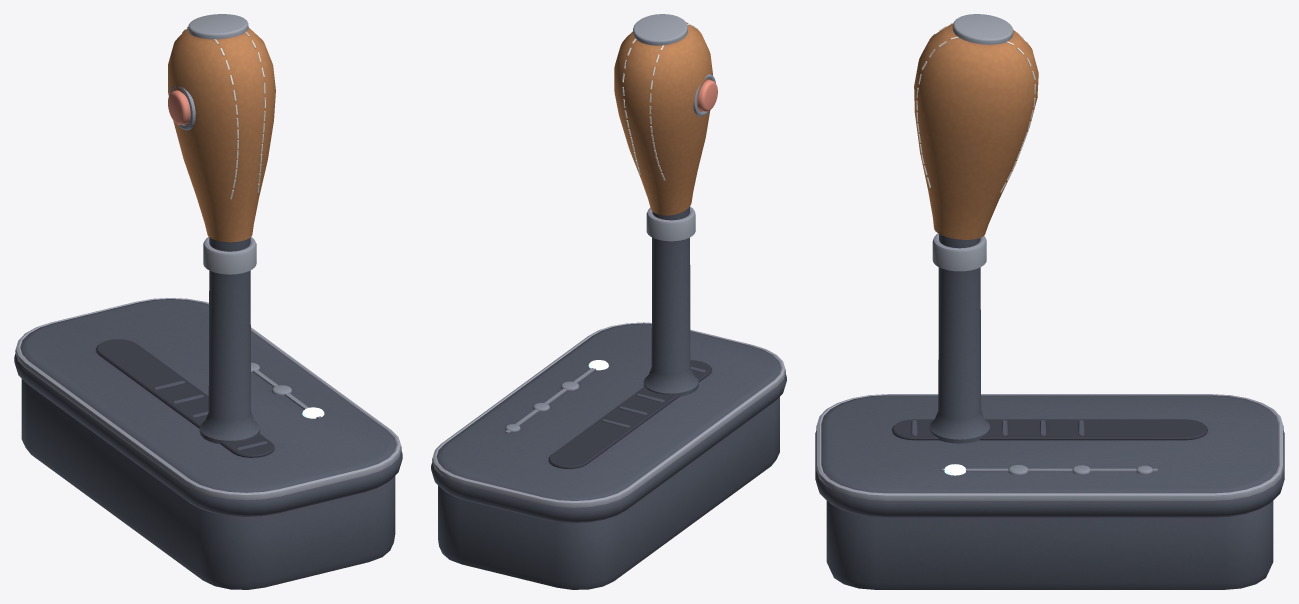
Rendered from automatic-gear-selector.glb.
3 views of the same model, side by side, from view 1: azimuth 30°, elevation 25°; view 2: azimuth 150°, elevation 25°; view 3: azimuth 270°, elevation 25° (orthographic). The views are drawn at different scales.
Parts seen in each view (by area): view 1: automatic-gear-selector_body, automatic-gear-selector_lever; view 2: automatic-gear-selector_body, automatic-gear-selector_lever; view 3: automatic-gear-selector_body, automatic-gear-selector_lever.
Part boxes in pixels (box(x1,y1,x2,y2)): automatic-gear-selector_body: box(14, 298, 402, 589); automatic-gear-selector_lever: box(168, 14, 275, 443); automatic-gear-selector_body: box(431, 322, 786, 589); automatic-gear-selector_lever: box(614, 14, 717, 396); automatic-gear-selector_body: box(815, 394, 1284, 589); automatic-gear-selector_lever: box(914, 14, 1038, 443).
Size of the model in its own units: 0.108 by 0.2511 by 0.208.
Materials: 3 (2 with a texture image).
